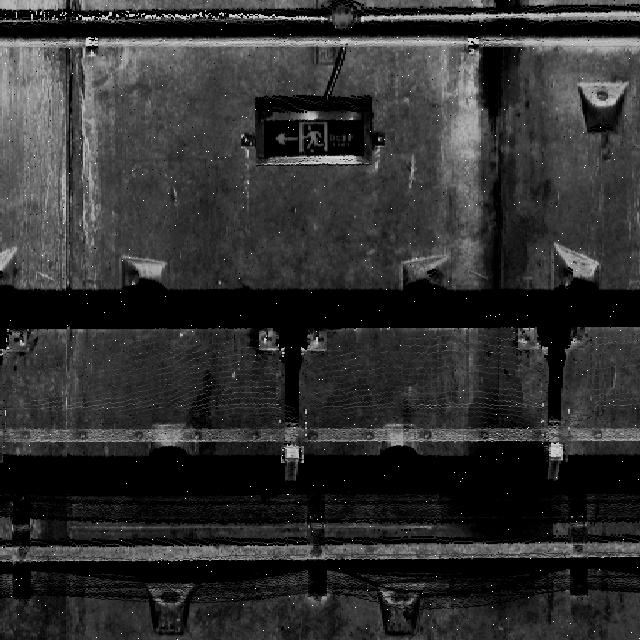leakage: (445, 323, 563, 576), (461, 2, 550, 284), (44, 2, 94, 235)
